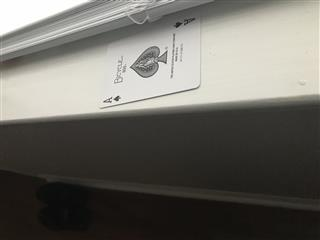AceOfSpades: (98, 13, 200, 108)
